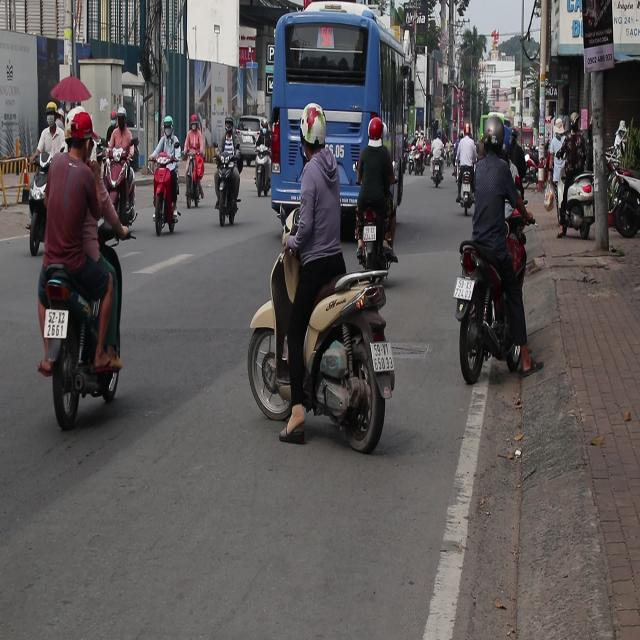bus: (269, 5, 412, 188)
car: (236, 116, 270, 164), (338, 181, 359, 243)
motorbike: (267, 236, 399, 455), (39, 248, 128, 430), (453, 246, 542, 402), (556, 130, 640, 242), (109, 142, 139, 230), (152, 160, 184, 229), (215, 158, 246, 223), (185, 138, 208, 207), (26, 192, 46, 258), (253, 144, 275, 186), (256, 151, 272, 196), (417, 142, 431, 174)
